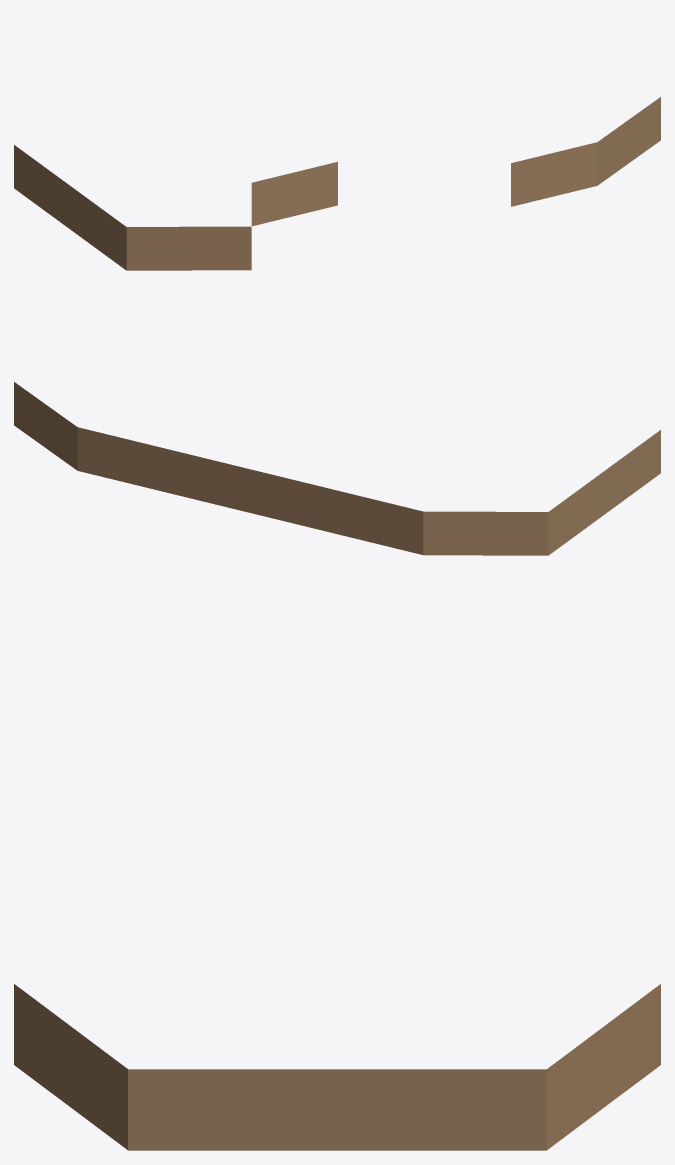
The model's file is 1431-Buildings-shell-pieces-facade-bay-wall-round-an-opening-reveals-sill-head-emitBa.glb.
3 views of the same model, one above another, from view 1: azimuth 30°, elevation 25°; view 2: azimuth 150°, elevation 25°; view 3: azimuth 270°, elevation 25° (orthographic). The views are drawn at different scales.
Parts seen in each view (by area): view 1: emitBay; view 2: emitBay; view 3: emitBay.
Boxes of the visible parts, x1=… form: emitBay: x1=14, y1=97, x2=660, y2=270; emitBay: x1=14, y1=382, x2=660, y2=555; emitBay: x1=14, y1=984, x2=660, y2=1150.
Size of the model in its own units: 39 by 6.1 by 22.
